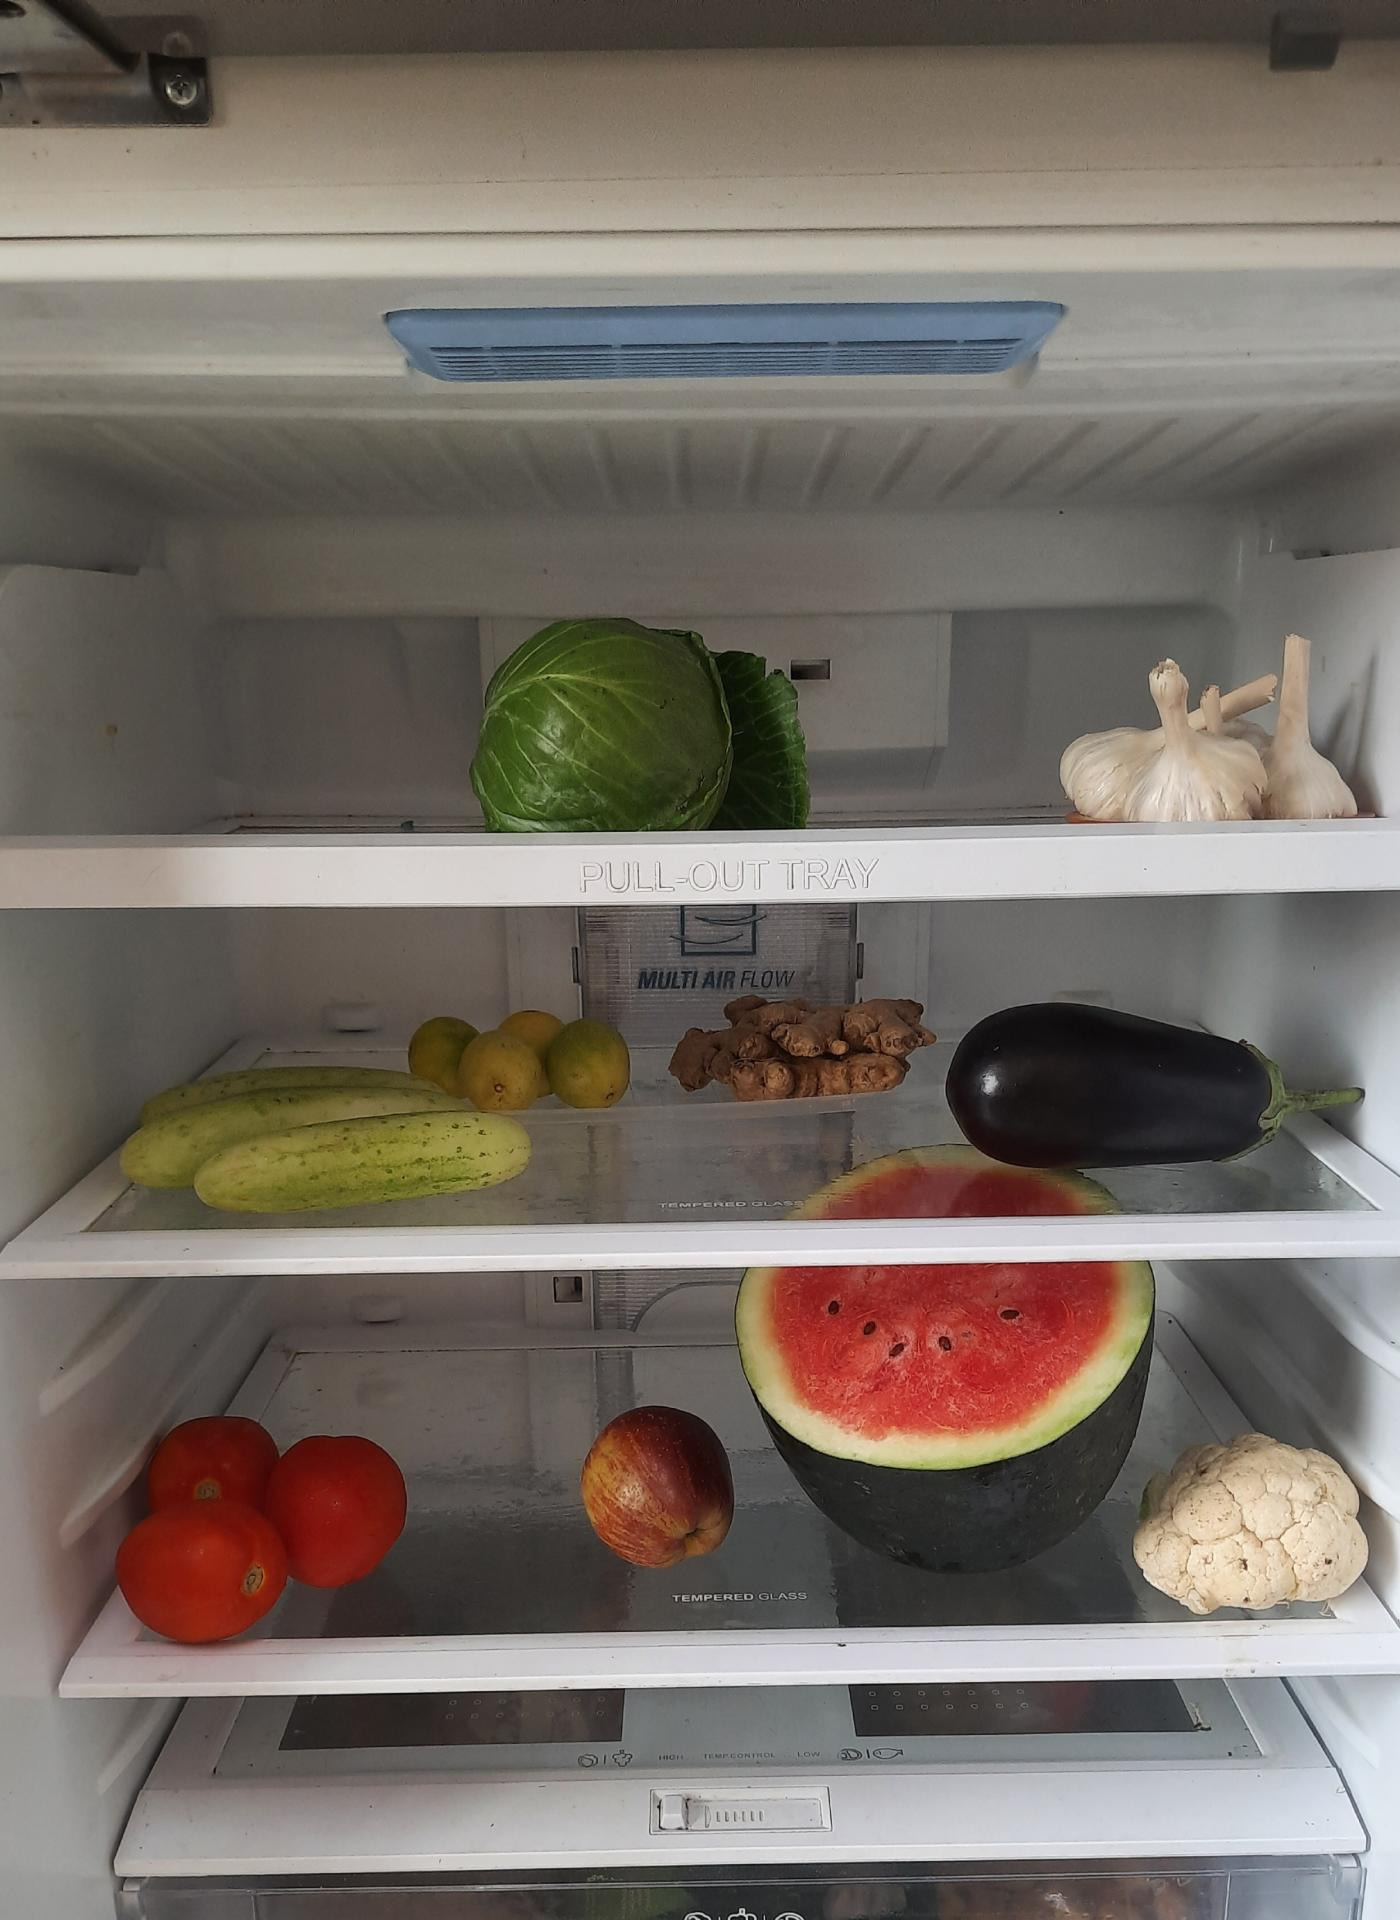apple: (570, 1389, 744, 1574)
brinjal: (941, 985, 1375, 1179)
cabbage: (476, 614, 819, 827)
cauliflower: (1133, 1428, 1375, 1613)
cucumber: (109, 1054, 543, 1225)
garlic: (1057, 644, 1372, 829)
ginger: (675, 996, 930, 1105)
lemon: (403, 1006, 628, 1112)
tomato: (122, 1416, 412, 1637)
watermelon: (737, 1146, 1167, 1573)
